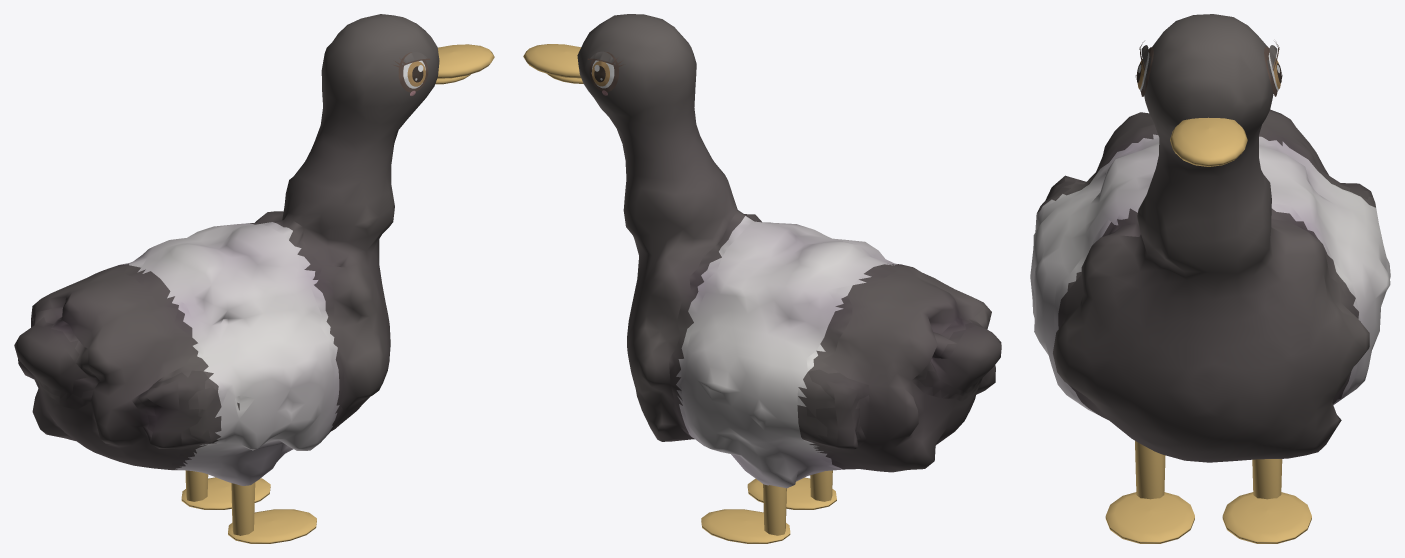
File: tuxedo_goose.glb
The picture shows the model from 3 angles, left to right: view 1: azimuth 30°, elevation 25°; view 2: azimuth 150°, elevation 25°; view 3: azimuth 270°, elevation 25°; orthographic projection. The views are drawn at different scales.
Visible parts, largest first — view 1: tuxedo_goose; view 2: tuxedo_goose; view 3: tuxedo_goose.
Part boxes in pixels (<box>): tuxedo_goose: <box>14,14,494,543</box>; tuxedo_goose: <box>523,14,1001,543</box>; tuxedo_goose: <box>1030,14,1390,543</box>.
Bounding box in the file's own units: 0.7062 × 0.6639 × 0.3722.
